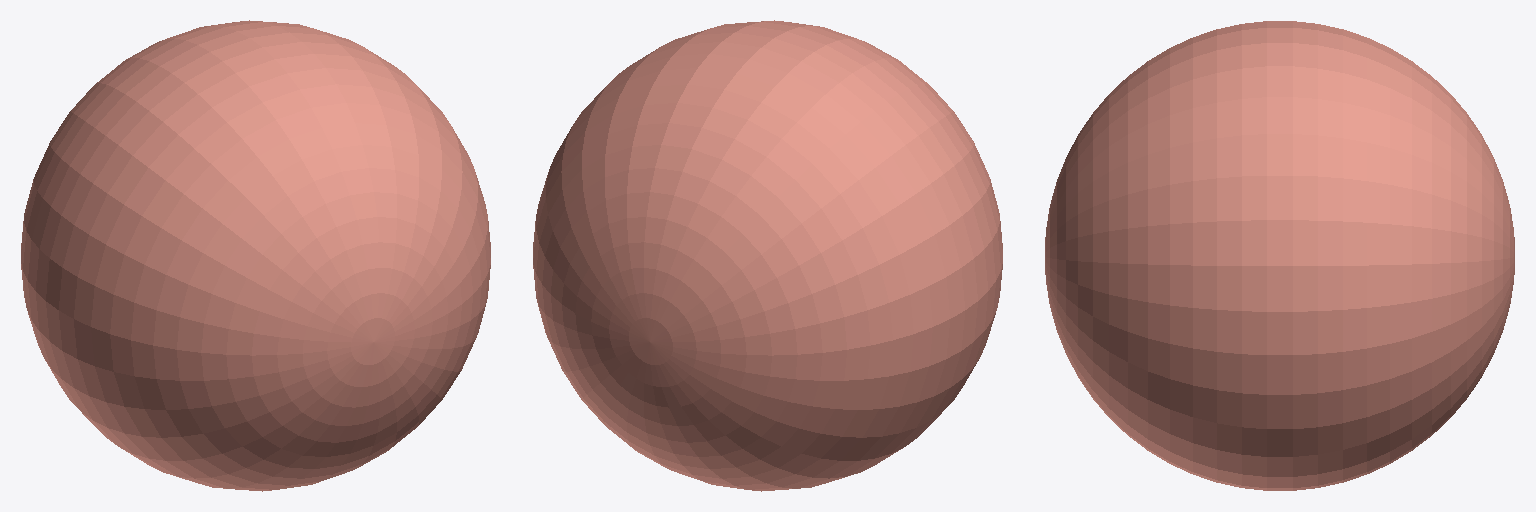
robot.urdf — urdf_robot:
<?xml version="1.0" ?>
<robot name="urdf_robot">
  <link name="base_link">
    <contact>
      <rolling_friction value="0.001"/>
      <spinning_friction value="0.001"/>
    </contact>
    <inertial>
      <origin rpy="0 0 0" xyz="0 0 0"/>
       <mass value="0"/>
       <inertia ixx="1" ixy="0" ixz="0" iyy="1" iyz="0" izz="1"/>
    </inertial>
    <visual>
      <origin rpy="0 0 0" xyz="0 0 0"/>
      <geometry>
        <mesh filename="sphere_small.obj" scale="0.06 0.06 0.06"/>
        <!-- <mesh filename="textured_sphere_smooth.obj" scale="0.03 0.03 1"/>       -->
      </geometry>
      <material name="Tumbleweed">
        <color rgba="0.9058823529411765 0.6352941176470588 0.5843137254901961 1"/>
      </material>
    </visual>
    <collision>
      <origin rpy="0 0 0" xyz="0 0 0"/>
      <geometry>
	    <mesh filename="pb_sphere_vhacd.obj" scale="0.06 0.06 0.06"/>
      </geometry>
    </collision>
  </link>
</robot>

--- Facts derived from the render (not from the file) ---
3 views of the same robot in one strip: view 1: azimuth 30°, elevation 25°; view 2: azimuth 150°, elevation 25°; view 3: azimuth 270°, elevation 25° (orthographic).
Model urdf_robot with 1 links and 0 joints (none), rooted at base_link, posed every joint at zero.
Links seen in each view (by area): view 1: base_link; view 2: base_link; view 3: base_link.
Boxes of the visible links, x1,y1,x2,y2 form: base_link: (21, 20, 490, 491); base_link: (533, 20, 1002, 491); base_link: (1045, 21, 1514, 490).
Bounding box of the posed robot: 0.1198 × 0.12 × 0.1198 m (x, y, z).
1 mesh visuals loaded from 1 distinct referenced files (1 OBJ).